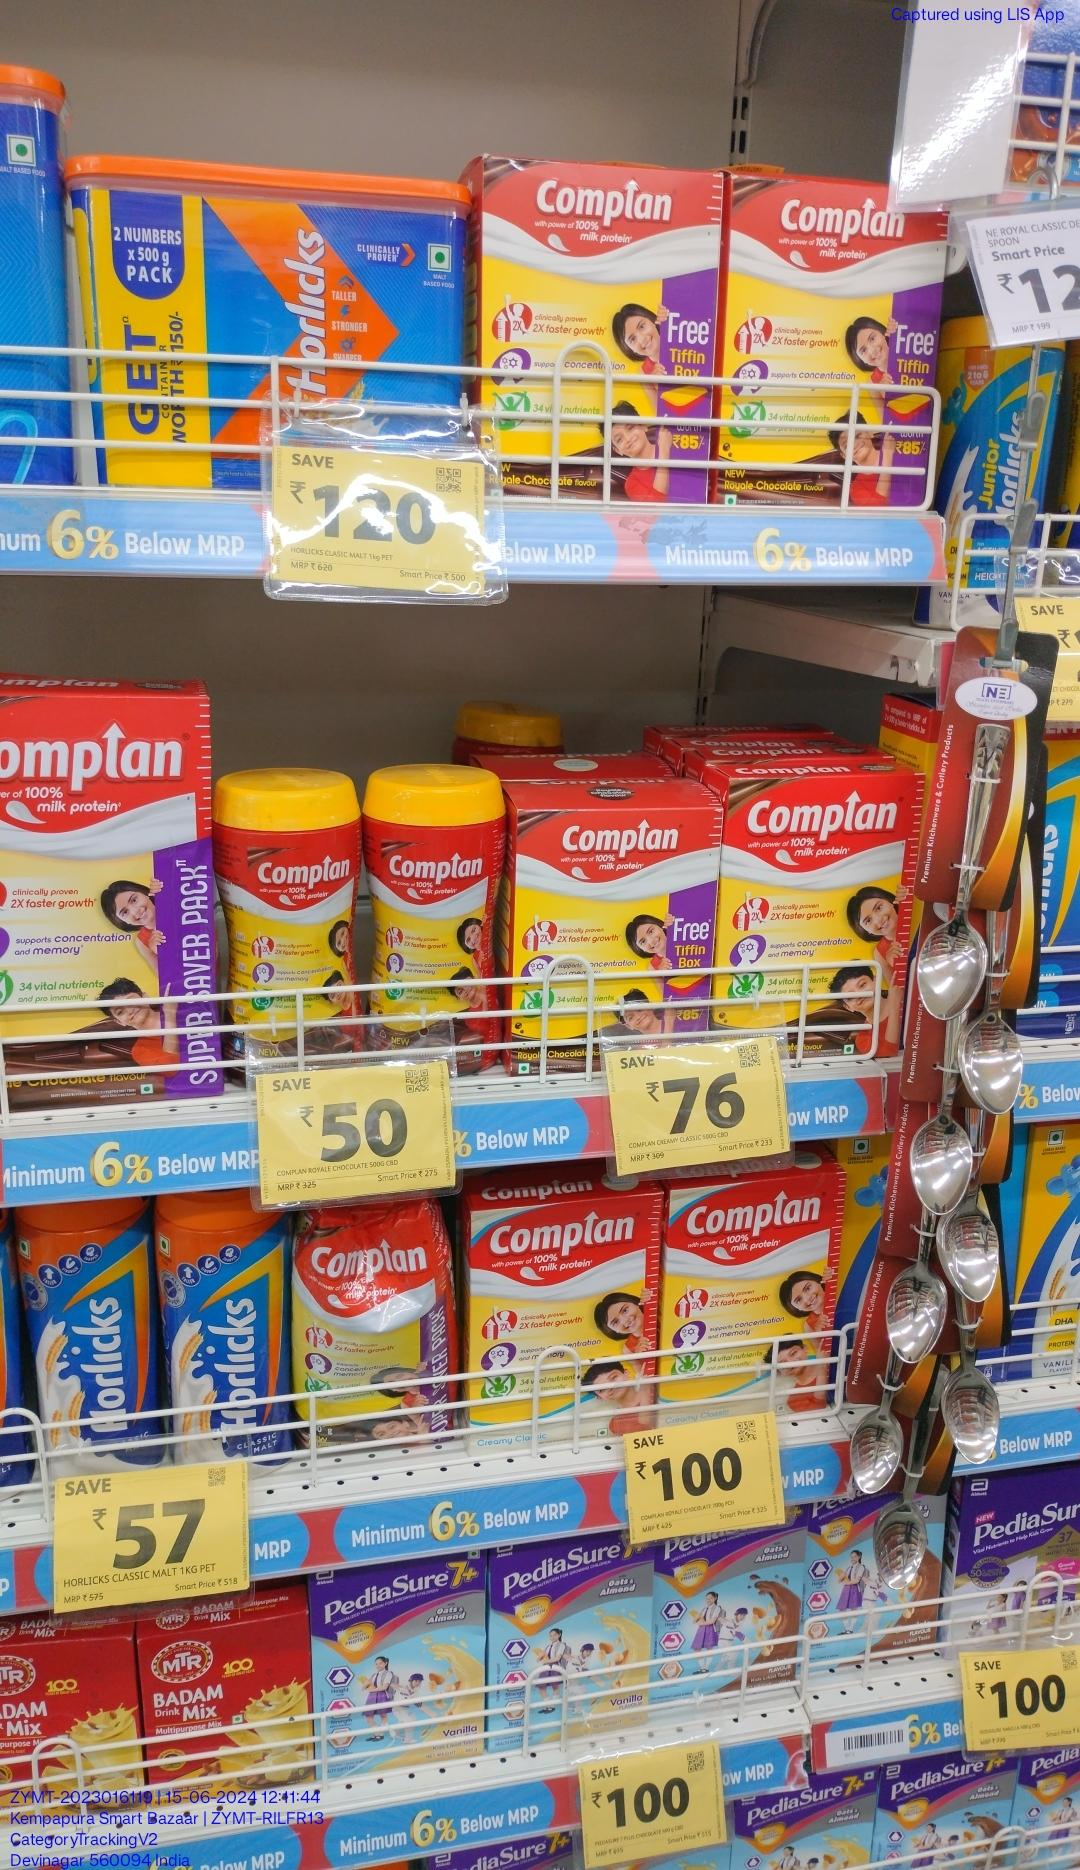COMPLAN_CHOCOLATE_1_KG_PACK: (3, 693, 215, 1100)
COMPLAN_CHOCOLATE_500_GMS_JAR: (222, 780, 364, 1069), (374, 778, 499, 1055)
COMPLAN_CHOCOLATE_500_GMS_PACK: (481, 154, 715, 501), (725, 175, 937, 503), (723, 772, 908, 1041), (513, 807, 711, 1041)
COMPLAN_CREAMY_CLASSIC_500_G_PACK: (469, 1203, 657, 1432), (670, 1185, 829, 1419)
COMPLAN_RC_POUCH_700_GMS_12: (296, 1208, 456, 1452)
HORLICK_CLASSIC_MALT_500_G_JAR: (24, 1206, 153, 1477), (162, 1204, 289, 1460)
HORLICK_MALT_1_KG_CONTAINER: (71, 172, 469, 436)
PEDIASURE_7_PLUS_CHOCOLATE_400_G_PACK: (657, 1540, 800, 1690)
